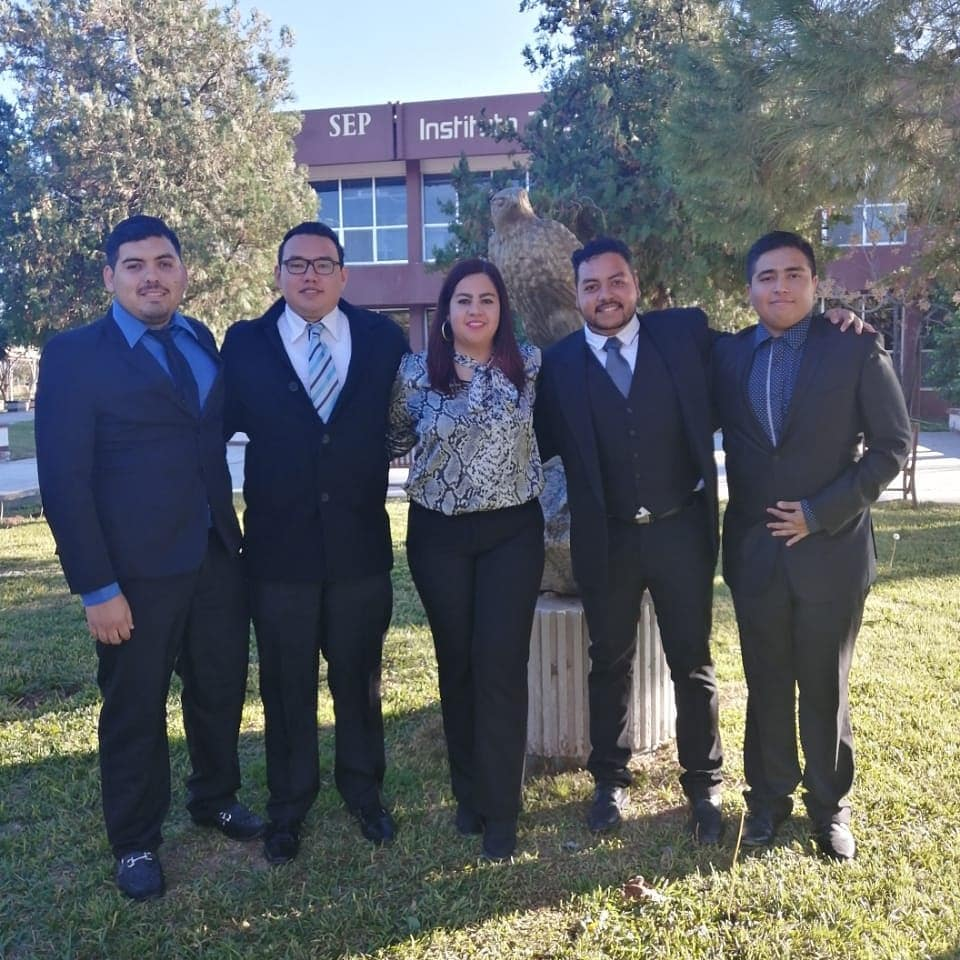Yoshi: (535, 217, 739, 524)
